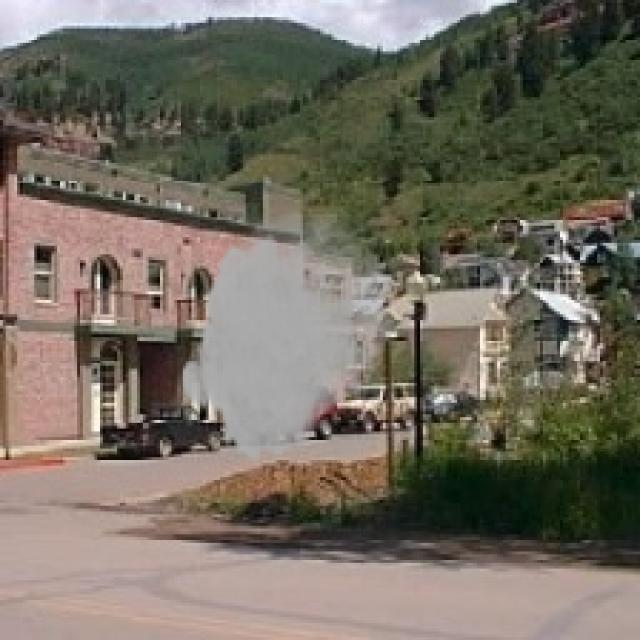smoke: (180, 214, 403, 466)
